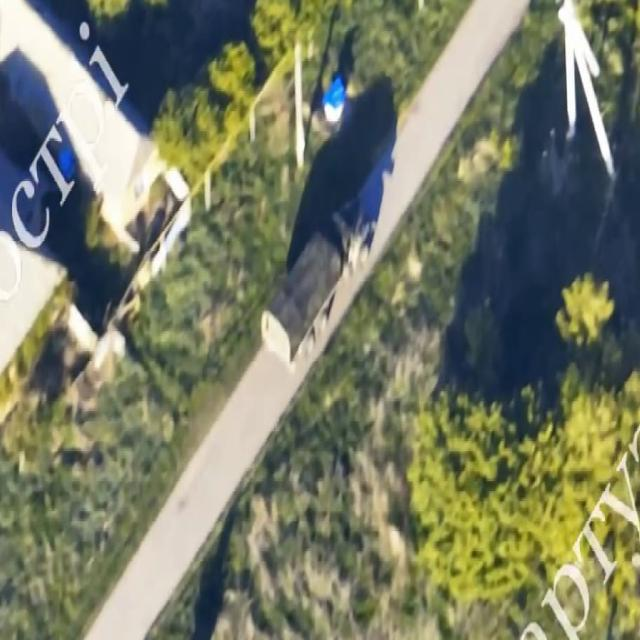TRUCK: (261, 191, 376, 379)
